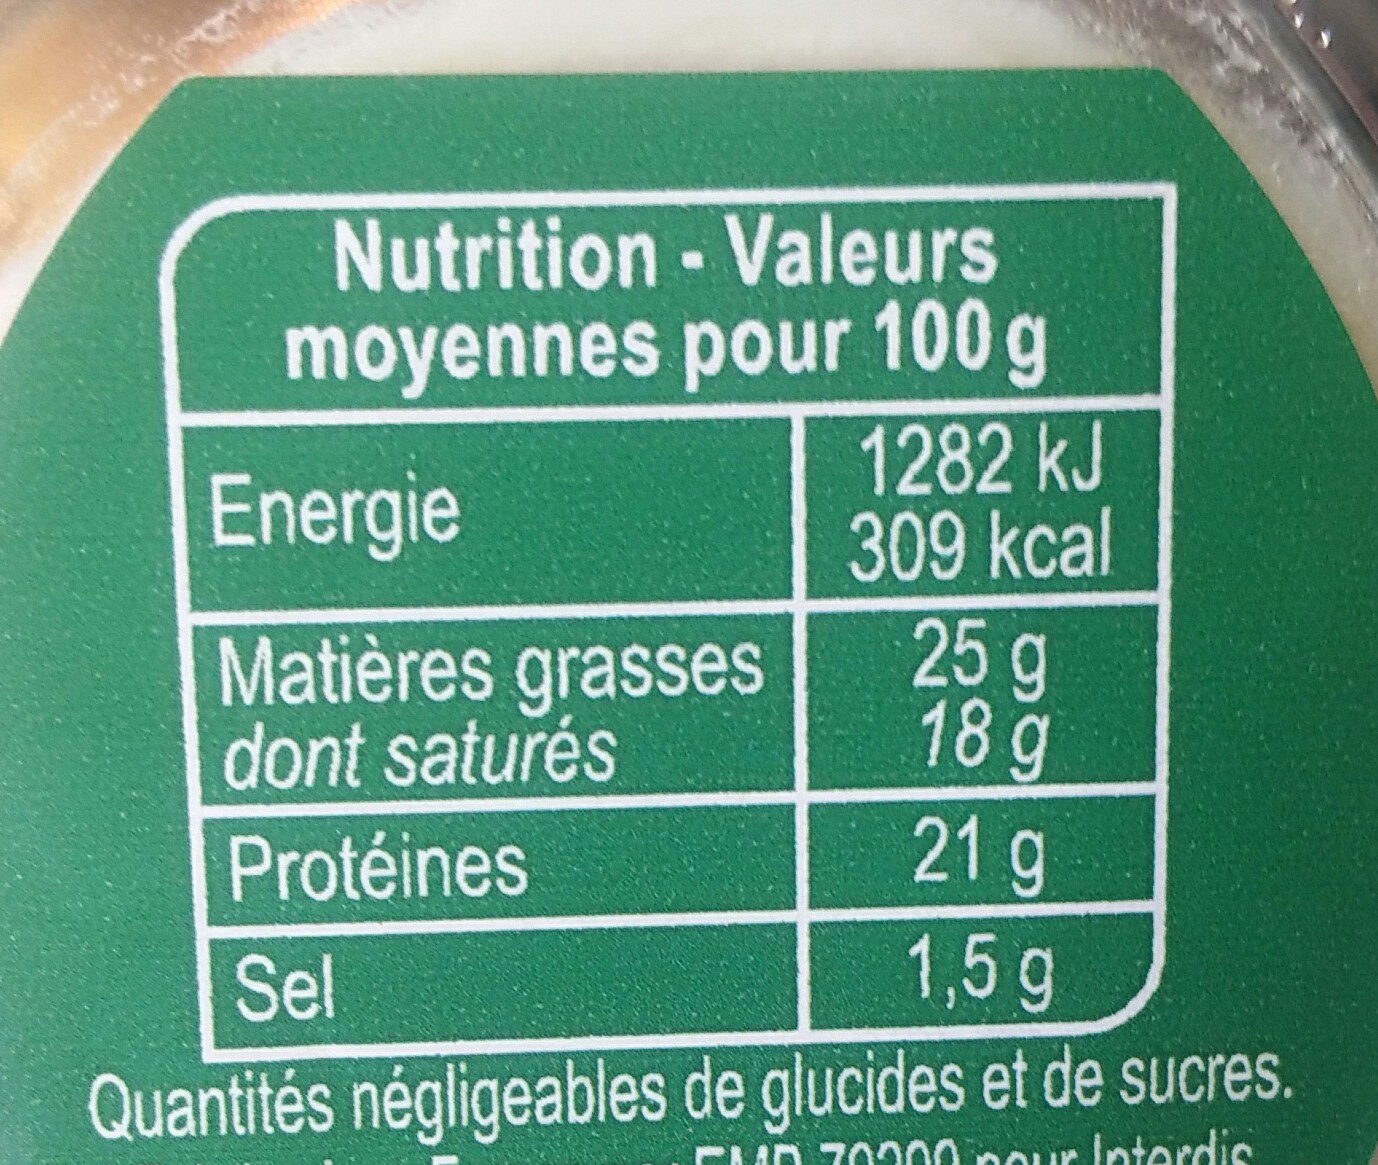column: (207, 469, 772, 1021), (847, 422, 1117, 1014)
table: (151, 181, 1175, 1058)
